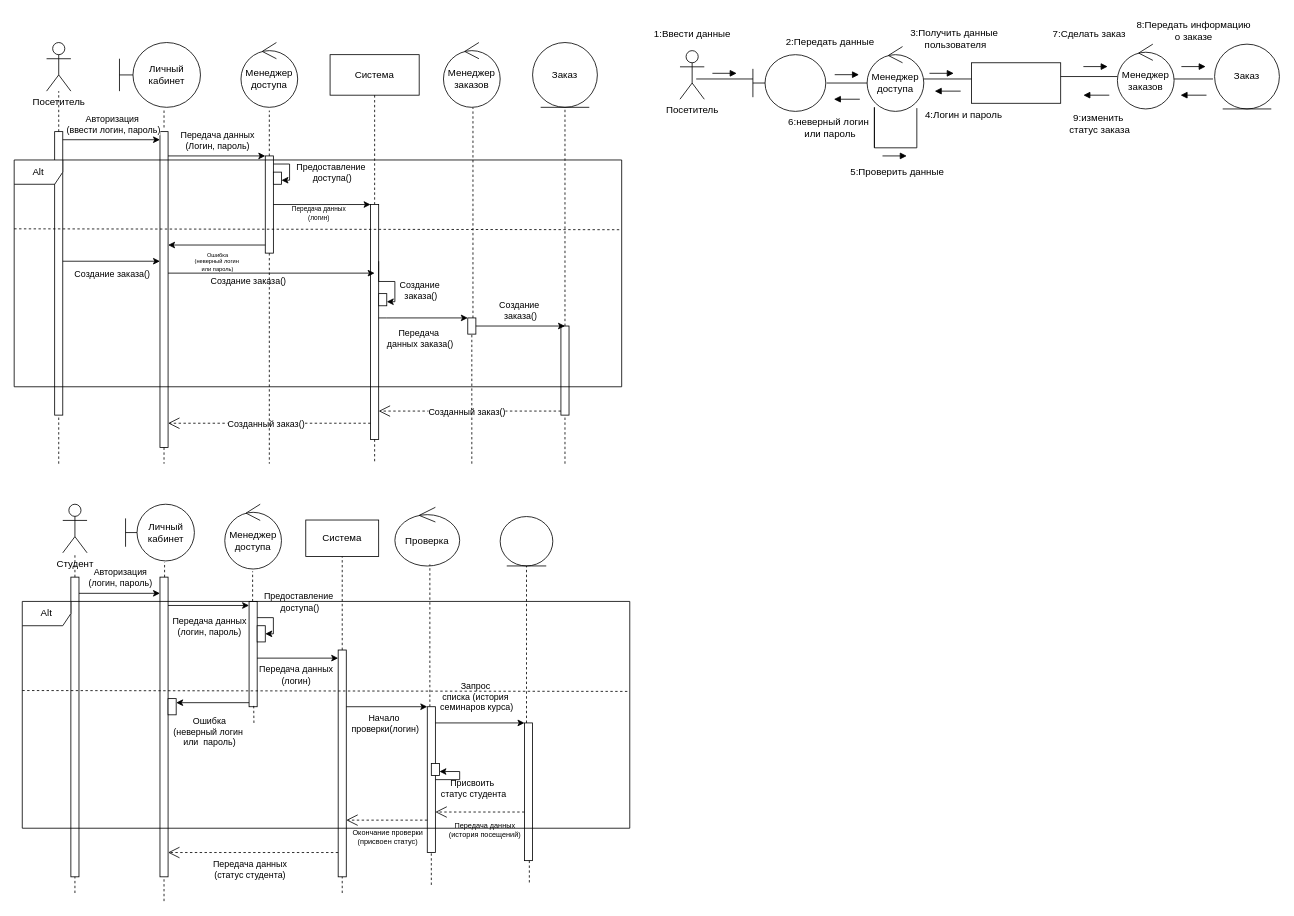
The diagram is 1294 pixels wide and 916 high, and some of its shapes have lost their labels. Here are the shapes that lost their labels. From the top down, the box of each, then its label:
(752, 54, 826, 111): Авторизация
(971, 62, 1061, 103): Пользователь
(499, 516, 553, 566): Список
